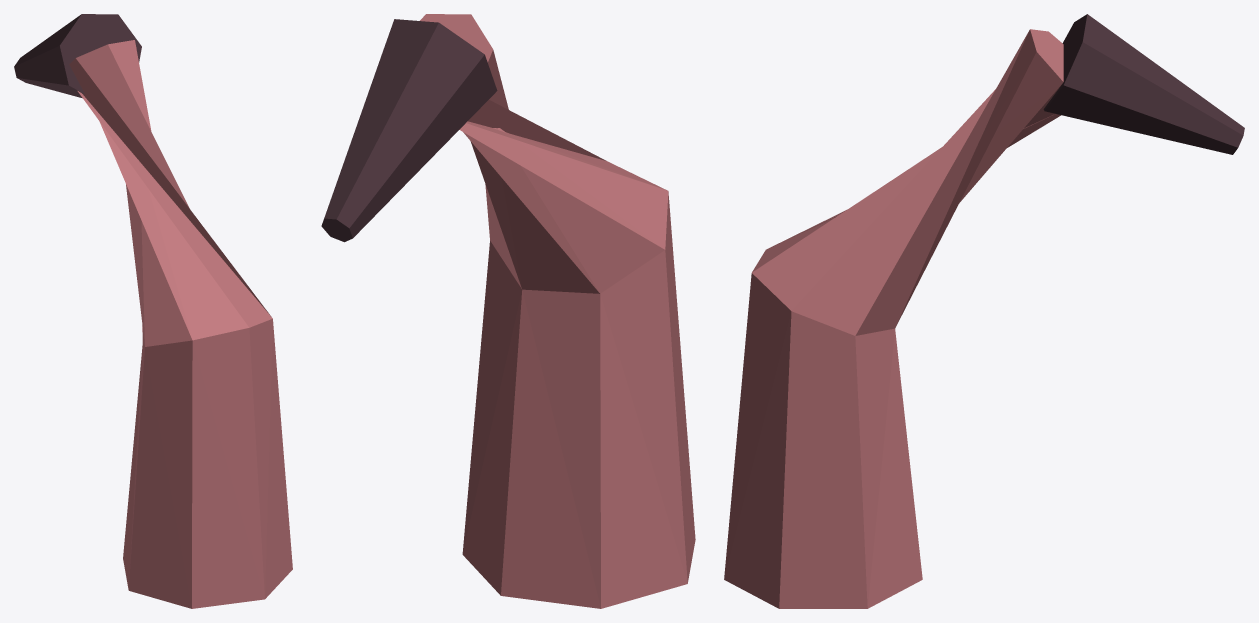
File: fingerspike_appendage_0.obj
3 views of the same model, side by side, from view 1: azimuth 30°, elevation 25°; view 2: azimuth 150°, elevation 25°; view 3: azimuth 270°, elevation 25° (orthographic). The views are drawn at different scales.
Visible parts, largest first — view 1: fingerspike_appendage_0; view 2: fingerspike_appendage_0; view 3: fingerspike_appendage_0.
Part boxes in pixels (box(x1,y1,x2,y2)): fingerspike_appendage_0: box(14, 14, 292, 608); fingerspike_appendage_0: box(321, 14, 695, 608); fingerspike_appendage_0: box(724, 14, 1244, 608).
Bounding box in the file's own units: 0.1144 × 0.3592 × 0.3077.
